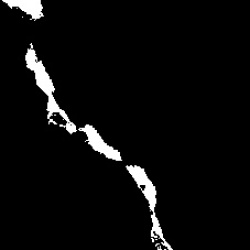crack: (25, 43, 77, 133), (123, 167, 170, 248), (80, 124, 122, 161), (4, 1, 43, 20)
